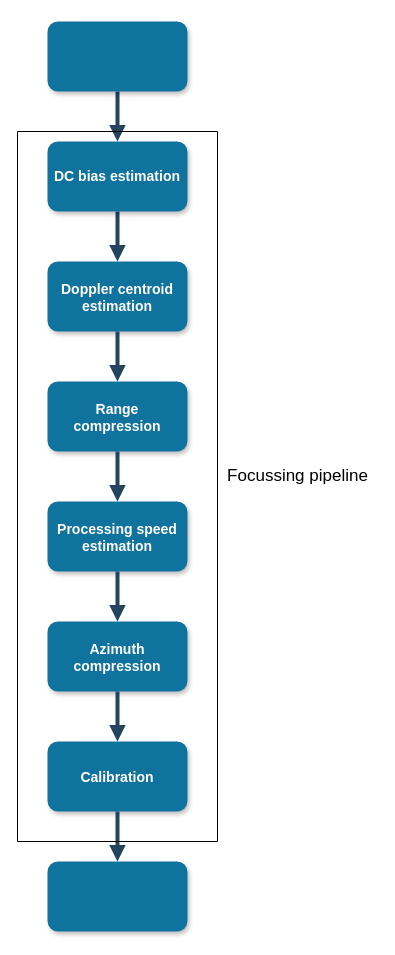
Image size: 395x955. Some labels were removed from this diagram. The centre of each missing label's shape, as x and y in pixels:
"Processed file" belongs at point (118, 897).
"Raw file decoding" belongs at point (118, 57).
